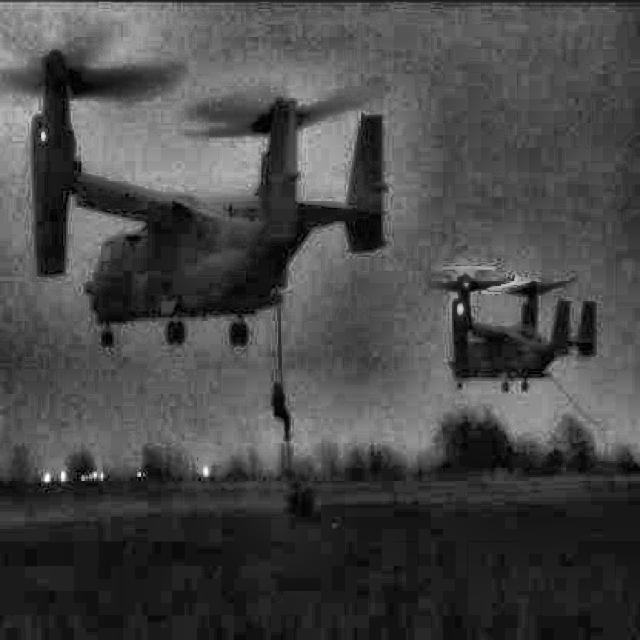V22: (1, 21, 387, 348), (427, 265, 598, 392)
